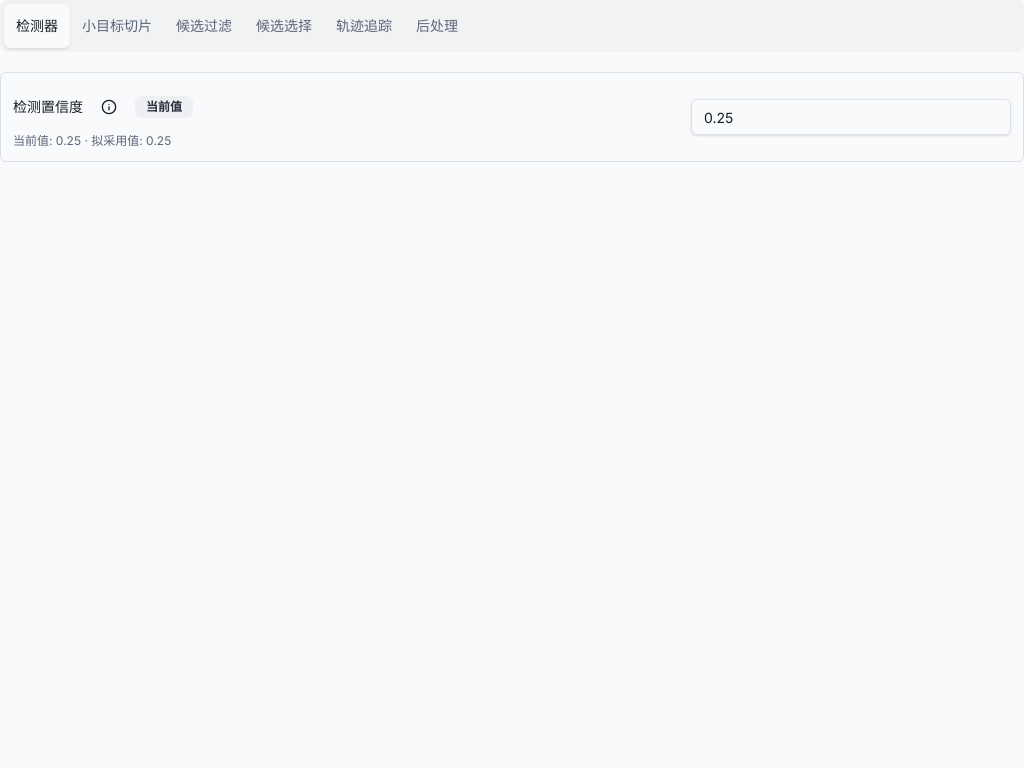
it: ProductionTrialTuningControls › renders localized Chinese labels and help without changing the control path
The image size is (1024, 768).
Check: the element named "有限试跑参数分类" is shown, box top-left (0, 0), bottom-right (1023, 52)
Check: the tab "检测器" is shown, box top-left (4, 4), bottom-right (70, 48)
Click the button named "查看“检测置信度”说明" at (109,107), box top-left (87, 85), bottom-right (131, 129)
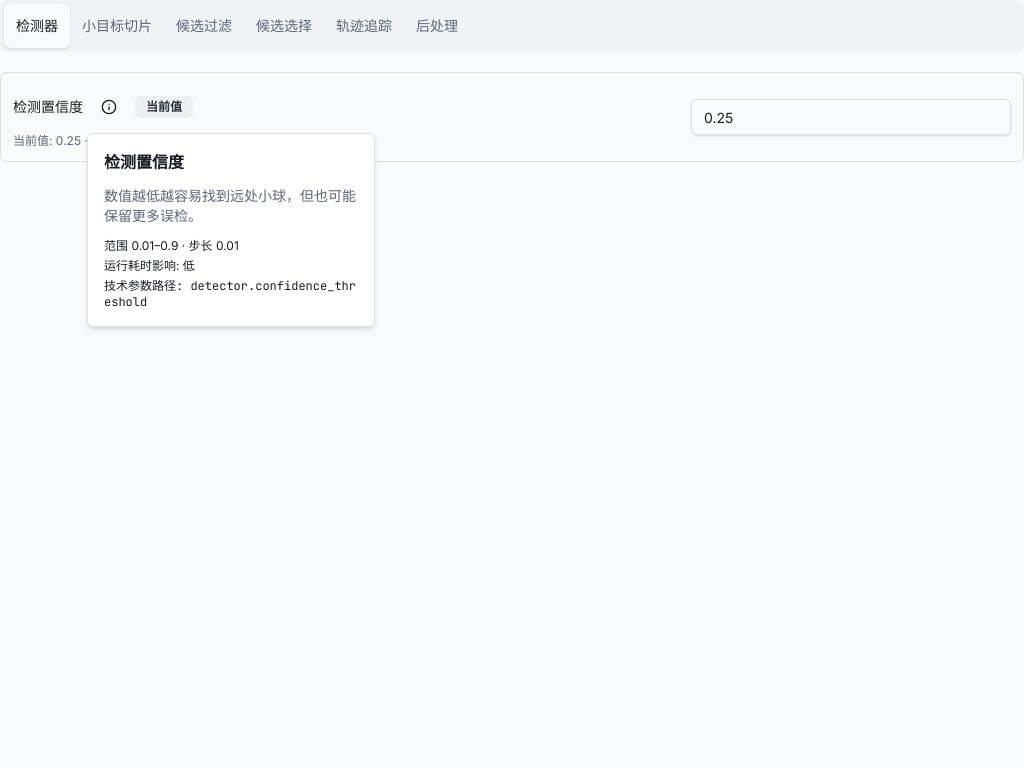
Check: the dialog "检测置信度" shows "detector.confidence_threshold", box top-left (104, 278), bottom-right (356, 310)
